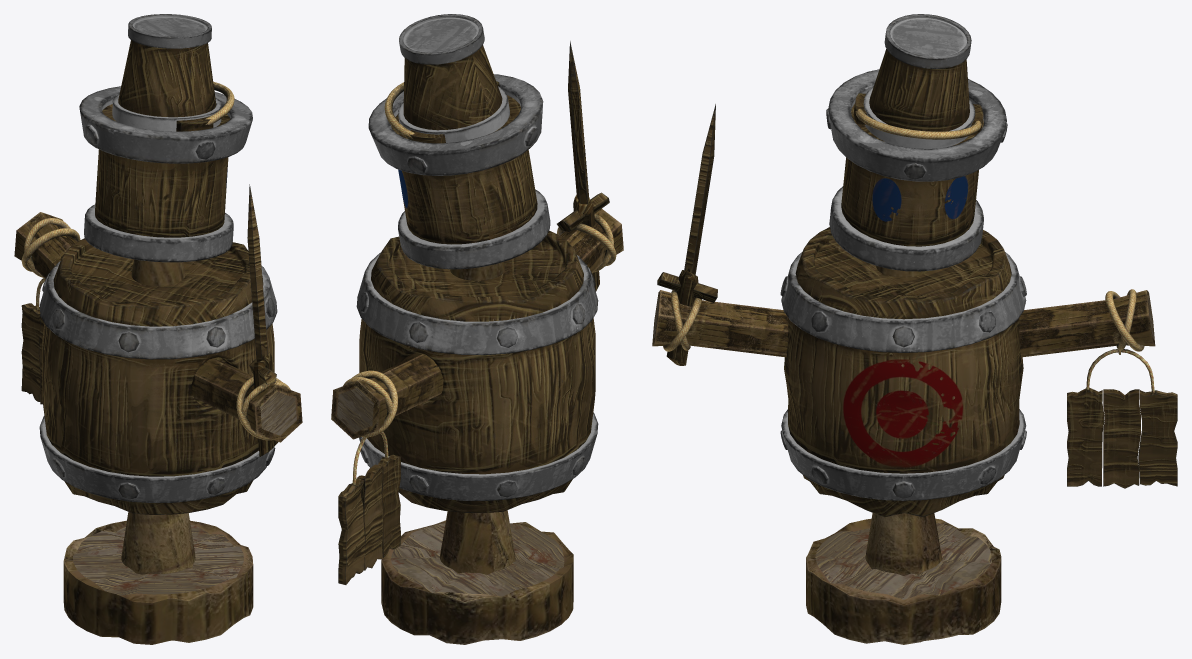
File: dummy.fbx
3 views of the same model, side by side, from view 1: azimuth 30°, elevation 25°; view 2: azimuth 150°, elevation 25°; view 3: azimuth 270°, elevation 25° (orthographic). The views are drawn at different scales.
Visible parts, largest first — view 1: Cylinder, Cylinder.009, Cylinder.003, Cylinder.006, Cylinder.001, Cylinder.002, Cylinder.004, Cube.002, Cube.005, Cylinder.005, NurbsCircle, NurbsCircle.001 (+2 smaller); view 2: Cylinder, Cylinder.009, Cylinder.003, Cylinder.006, Cylinder.001, Cylinder.002, Cylinder.004, Cube.005, Cube.002, Cube.004, Cube, NurbsCircle (+4 smaller); view 3: Cylinder, Cylinder.009, Cylinder.003, Cylinder.006, Cylinder.001, Cylinder.002, Cube.004, Cube.005, Cube, Cylinder.004, Cube.002, Torus.001 (+2 smaller).
Part boxes in pixels (bbox=[...]): Cylinder: bbox=[39, 238, 277, 514]; Cylinder.009: bbox=[79, 86, 252, 262]; Cylinder.003: bbox=[63, 520, 253, 644]; Cylinder.006: bbox=[112, 14, 221, 131]; Cylinder.001: bbox=[14, 212, 302, 442]; Cylinder.002: bbox=[121, 512, 195, 574]; Cylinder.004: bbox=[247, 184, 278, 456]; Cube.002: bbox=[42, 273, 275, 499]; Cube.005: bbox=[21, 303, 41, 401]; Cylinder.005: bbox=[131, 259, 185, 286]; NurbsCircle: bbox=[21, 228, 281, 440]; NurbsCircle.001: bbox=[24, 218, 290, 417]; Cylinder: bbox=[356, 230, 598, 513]; Cylinder.009: bbox=[368, 74, 550, 269]; Cylinder.003: bbox=[381, 520, 573, 644]; Cylinder.006: bbox=[398, 14, 509, 143]; Cylinder.001: bbox=[331, 208, 623, 439]; Cylinder.002: bbox=[439, 510, 515, 574]; Cylinder.004: bbox=[557, 41, 609, 291]; Cube.005: bbox=[338, 478, 365, 584]; Cube.002: bbox=[359, 267, 595, 497]; Cube.004: bbox=[357, 464, 382, 570]; Cube: bbox=[377, 454, 400, 557]; NurbsCircle: bbox=[352, 223, 616, 437]; Cylinder: bbox=[781, 227, 1026, 517]; Cylinder.009: bbox=[828, 69, 1006, 271]; Cylinder.003: bbox=[806, 518, 1001, 644]; Cylinder.006: bbox=[853, 14, 983, 148]; Cylinder.001: bbox=[652, 290, 1155, 357]; Cylinder.002: bbox=[865, 513, 942, 575]; Cube.004: bbox=[1103, 389, 1140, 488]; Cube.005: bbox=[1138, 390, 1177, 486]; Cube: bbox=[1067, 387, 1104, 486]; Cylinder.004: bbox=[657, 104, 717, 365]; Cube.002: bbox=[780, 276, 1026, 498]; Torus.001: bbox=[855, 109, 981, 139].
Bounding box in the file's own units: 31673 × 83262 × 67590.
Materials: 5 (5 with a texture image).
